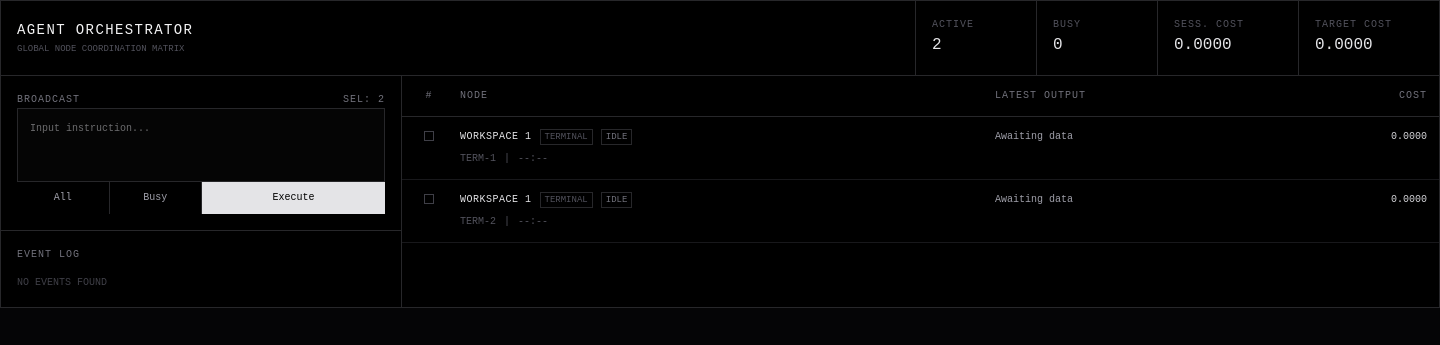
Scenario: AgentOrchestratorDashboard › shows partial success feedback when some terminals are offline
Type "echo \"analyzing request\"" into the text box with placeholder "Input instruction..." at {"x": 201, "y": 145}, box [17,108,385,182]
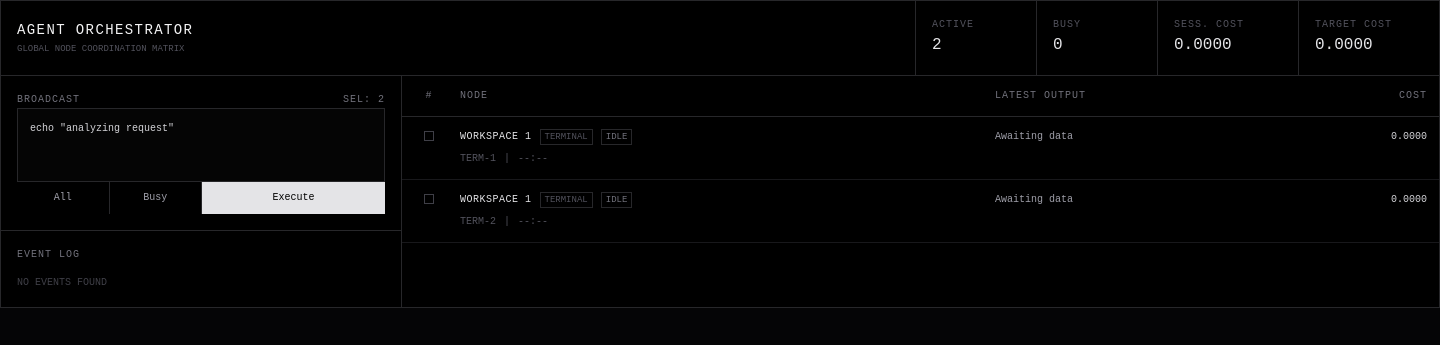
Click the button "Execute" at {"x": 294, "y": 198}, box [202,182,385,214]
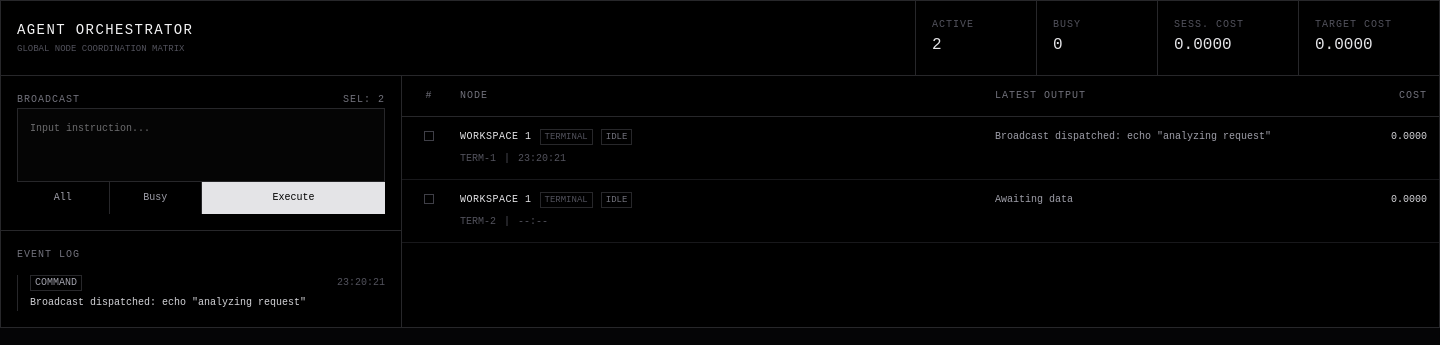
Expected: the text "Broadcast dispatched: echo \"analyzing request\"" below "command" is shown, [30,297,306,308]
